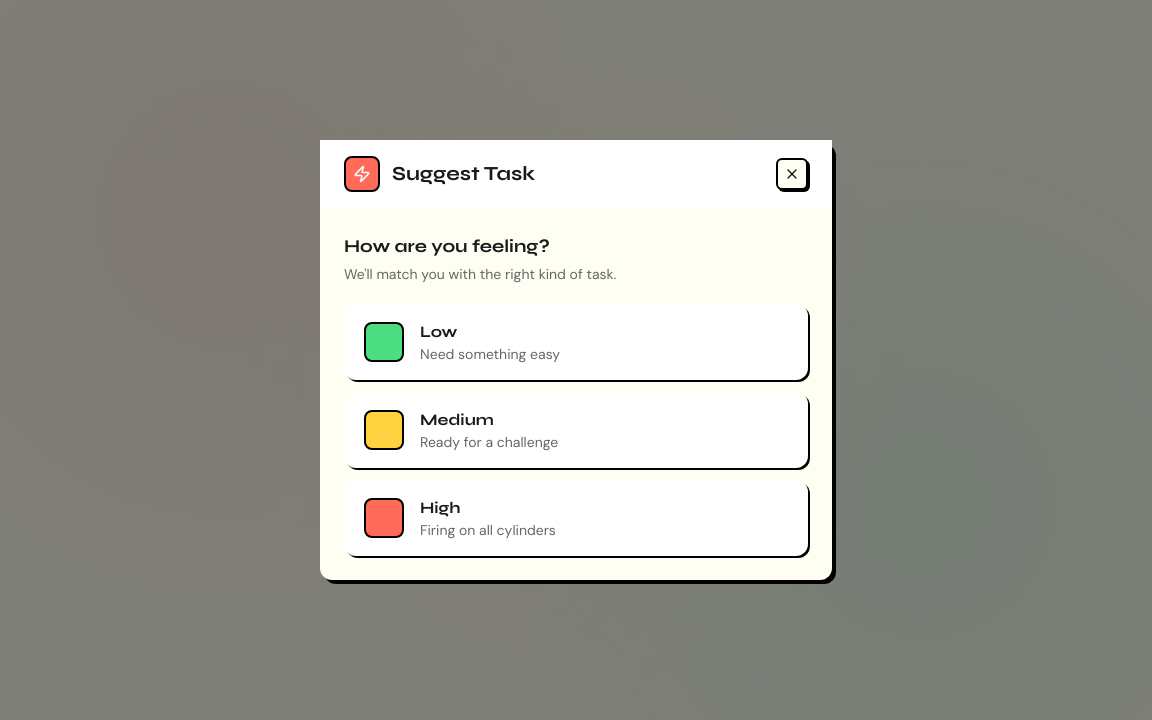
it: TaskSuggestionModal › advances to step 2 after selecting energy level
Click the text "Low": [439, 332] box [420, 322, 457, 341]
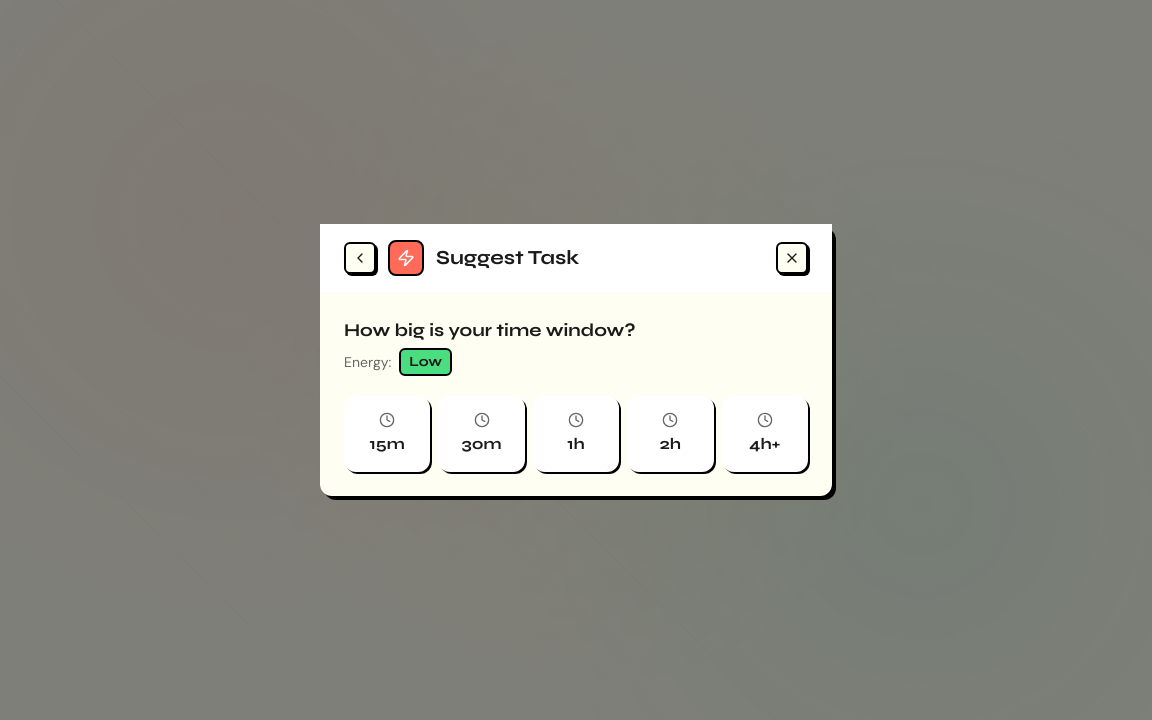
Now the text "How big is your time window?" is shown, box [344, 319, 636, 341]
Now the button "15m" is shown, box [344, 396, 430, 472]
Now the button "30m" is shown, box [438, 396, 525, 472]
